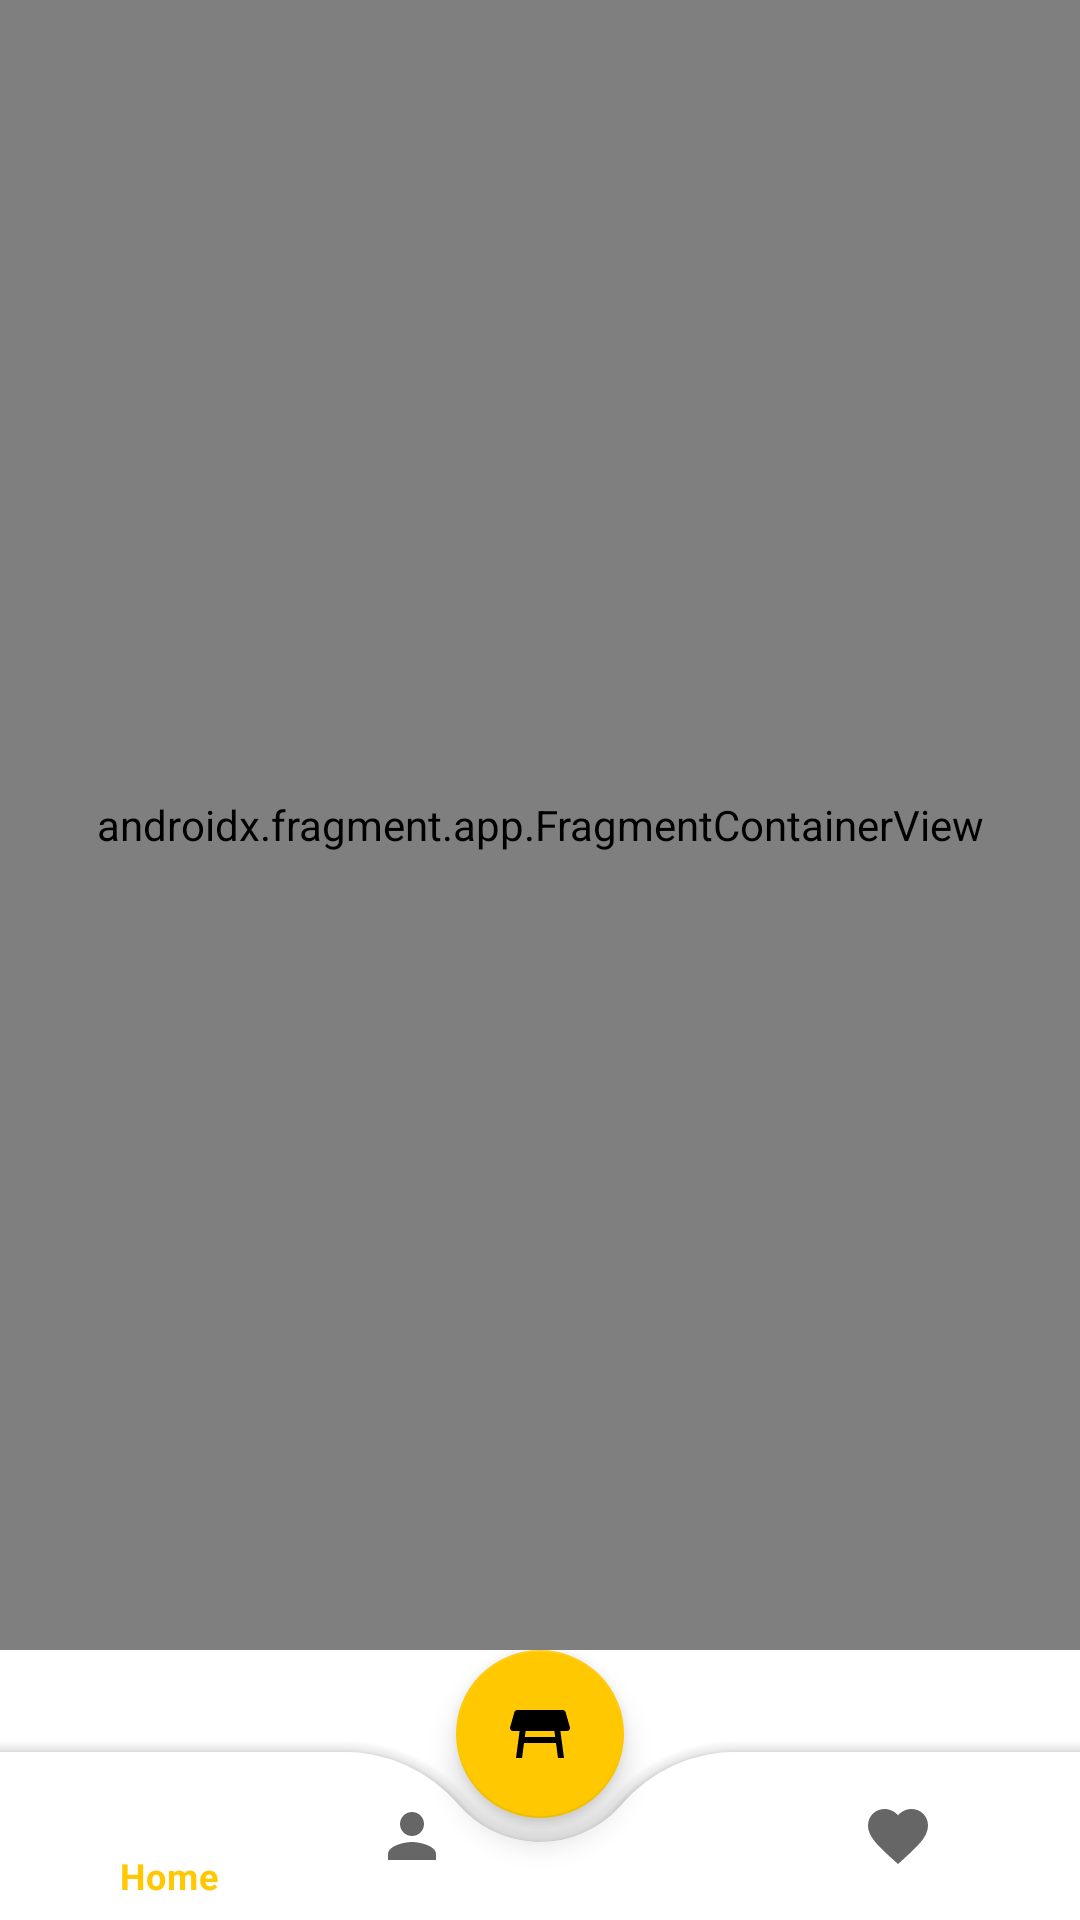

Where to tap for icons on this 1080 × 1920 app screen, as (x=x, y=y):
table: (x=540, y=1752)
